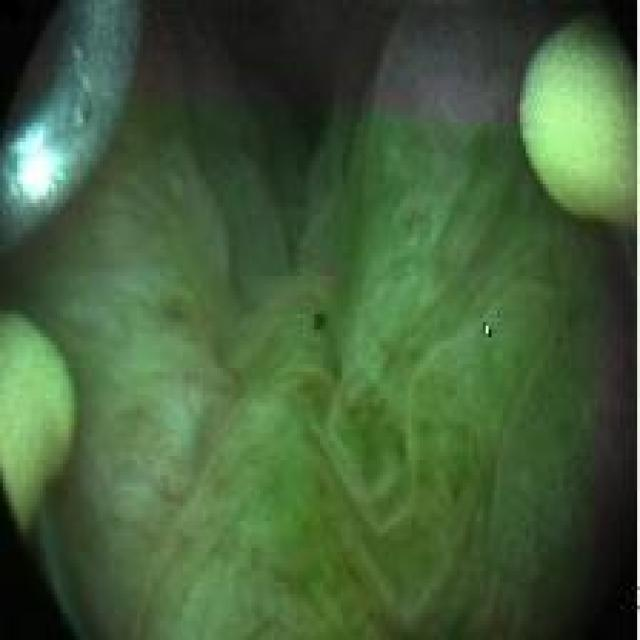color misalignment: (307, 307, 327, 337)
instrument: (4, 4, 139, 267), (522, 12, 636, 237), (2, 310, 81, 534)
specularity: (17, 123, 63, 208)
